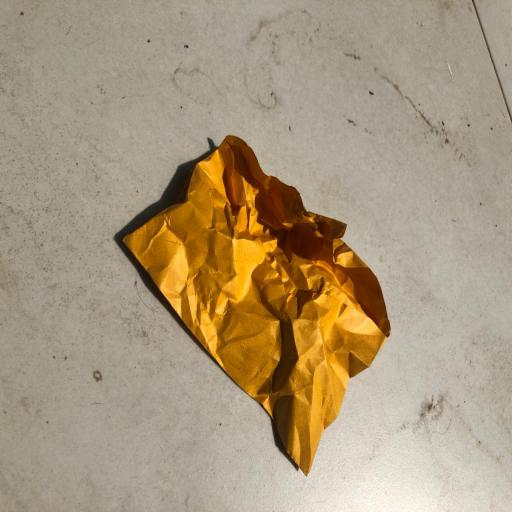waste: (111, 131, 399, 476)
